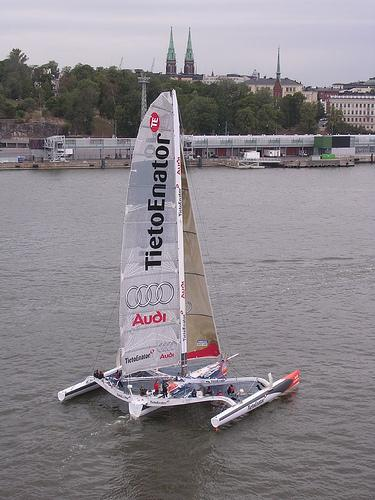Ship: (62, 90, 298, 436)
